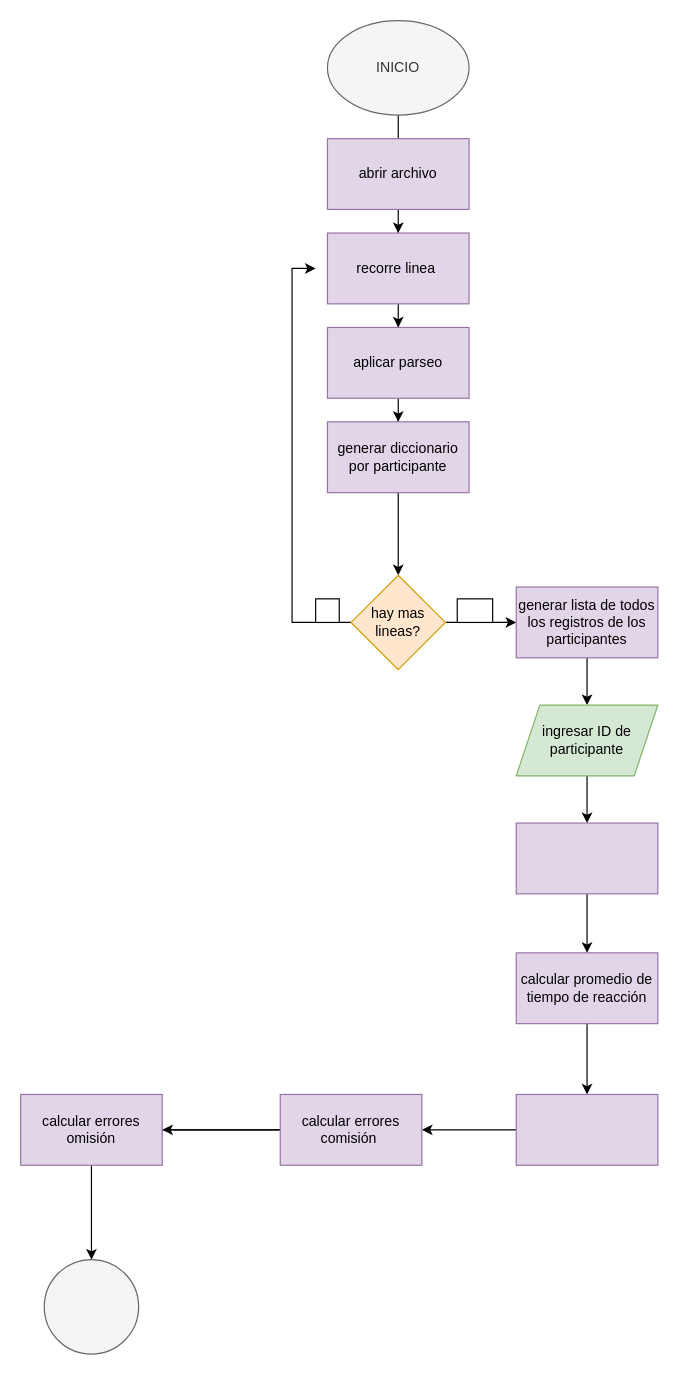
Image size: 679x1375. Some labels were removed from this diagram. Each missing label, with the centre of its shape:
"calcular tasa de error" belongs at (586,1129).
"filtrar y devolver datos de participante" belongs at (586,858).
"FIN" belongs at (91,1306).
"NO" belongs at (474,610).
"SI" belongs at (326,610).
